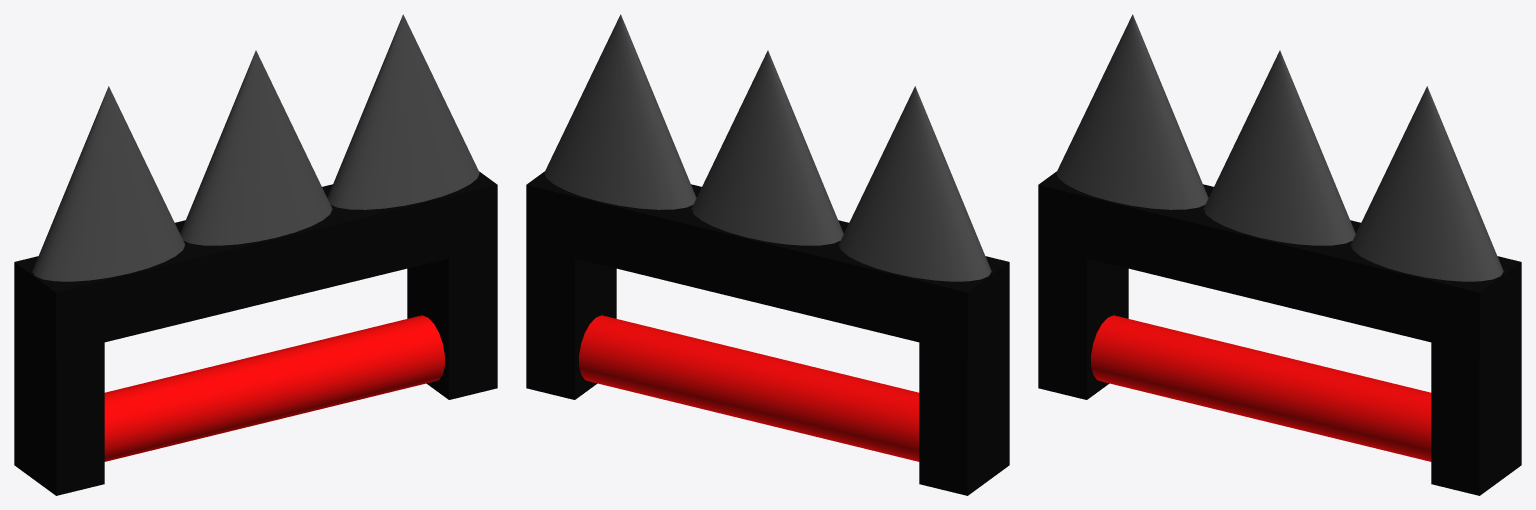
Rendered from knuckles.fbx.
3 renders of one model, left to right at view 1: azimuth 30°, elevation 25°; view 2: azimuth 150°, elevation 25°; view 3: azimuth 330°, elevation 25°, orthographic.
Visible parts, largest first — view 1: Box001, Cylinder001, Cone002, Cone003, Cone001, Box003, Box002; view 2: Box001, Cylinder001, Cone002, Cone003, Cone001, Box003, Box002; view 3: Box001, Cylinder001, Cone003, Cone002, Cone001, Box002, Box003.
Boxes of the visible parts, left/top/right/bottom form: Box001: left=14, top=171, right=497, bottom=354; Cylinder001: left=104, top=315, right=444, bottom=461; Cone002: left=32, top=86, right=184, bottom=281; Cone003: left=327, top=14, right=479, bottom=209; Cone001: left=180, top=50, right=332, bottom=245; Box003: left=14, top=324, right=104, bottom=495; Box002: left=407, top=244, right=497, bottom=399; Box001: left=526, top=171, right=1009, bottom=354; Cylinder001: left=579, top=315, right=919, bottom=461; Cone002: left=839, top=86, right=991, bottom=281; Cone003: left=544, top=14, right=696, bottom=209; Cone001: left=691, top=50, right=843, bottom=245; Box003: left=919, top=324, right=1009, bottom=495; Box002: left=526, top=234, right=616, bottom=399; Box001: left=1038, top=171, right=1521, bottom=354; Cylinder001: left=1091, top=315, right=1431, bottom=461; Cone003: left=1351, top=86, right=1503, bottom=281; Cone002: left=1056, top=14, right=1208, bottom=209; Cone001: left=1203, top=50, right=1355, bottom=245; Box002: left=1431, top=324, right=1521, bottom=495; Box003: left=1038, top=246, right=1128, bottom=399.
Bounding box in the file's own units: 150 × 122 × 24.64.
